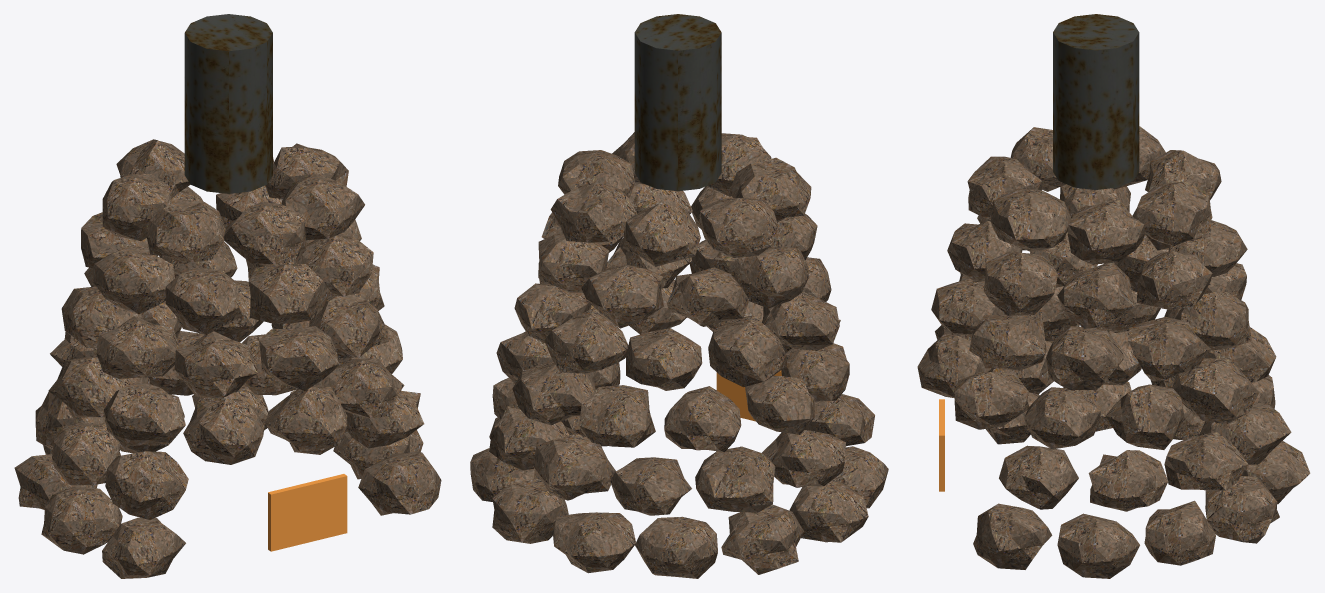
The model's file is furnace.glb.
3 renders of one model, left to right at view 1: azimuth 30°, elevation 25°; view 2: azimuth 150°, elevation 25°; view 3: azimuth 270°, elevation 25°, orthographic. The views are drawn at different scales.
Parts seen in each view (by area): view 1: chimney, FurnaceGlow, s1_6, s2_6, s0_6, s2_5, s4_5, s4_3, s5_3, s0_11, s3_5, s5_4 (+30 smaller); view 2: chimney, s1_4, s3_3, s0_4, s0_5, s0_3, s1_2, s2_3, s2_2, s3_1, s5_2, s5_0 (+33 smaller); view 3: chimney, s0_0, s2_1, s5_5, s5_0, s2_0, s3_8, s4_6, s0_11, s5_6, s1_1, s1_0 (+33 smaller).
Part boxes in pixels (x1,y1,x2,y2): chimney: (184, 14, 272, 193); FurnaceGlow: (268, 474, 347, 551); s1_6: (105, 451, 188, 519); s2_6: (183, 399, 264, 464); s0_6: (41, 486, 122, 554); s2_5: (103, 381, 185, 446); s4_5: (249, 264, 330, 323); s4_3: (92, 246, 174, 314); s5_3: (146, 199, 225, 264); s0_11: (358, 451, 441, 515); s3_5: (174, 331, 258, 398); s5_4: (223, 201, 305, 266); chimney: (634, 14, 721, 191); s1_4: (695, 446, 775, 512); s3_3: (708, 315, 786, 387); s0_4: (635, 516, 717, 578); s0_5: (721, 504, 803, 574); s0_3: (553, 512, 635, 573); s1_2: (532, 433, 615, 500); s2_3: (664, 386, 741, 452); s2_2: (579, 385, 655, 447); s3_1: (544, 308, 628, 373); s5_2: (699, 198, 778, 257); s5_0: (550, 182, 636, 242); chimney: (1053, 14, 1139, 189); s0_0: (1057, 513, 1139, 578); s2_1: (1172, 358, 1259, 423); s5_5: (990, 188, 1071, 251); s5_0: (1134, 181, 1211, 245); s2_0: (1105, 384, 1188, 449); s3_8: (1046, 326, 1124, 390); s4_6: (983, 252, 1057, 315); s0_11: (973, 503, 1052, 569); s5_6: (1067, 199, 1145, 264); s1_1: (1164, 431, 1248, 490); s1_0: (1088, 450, 1168, 511).
Bounding box in the file's own units: 1.37 × 1.69 × 1.28.
Materials: 53 (52 with a texture image).
